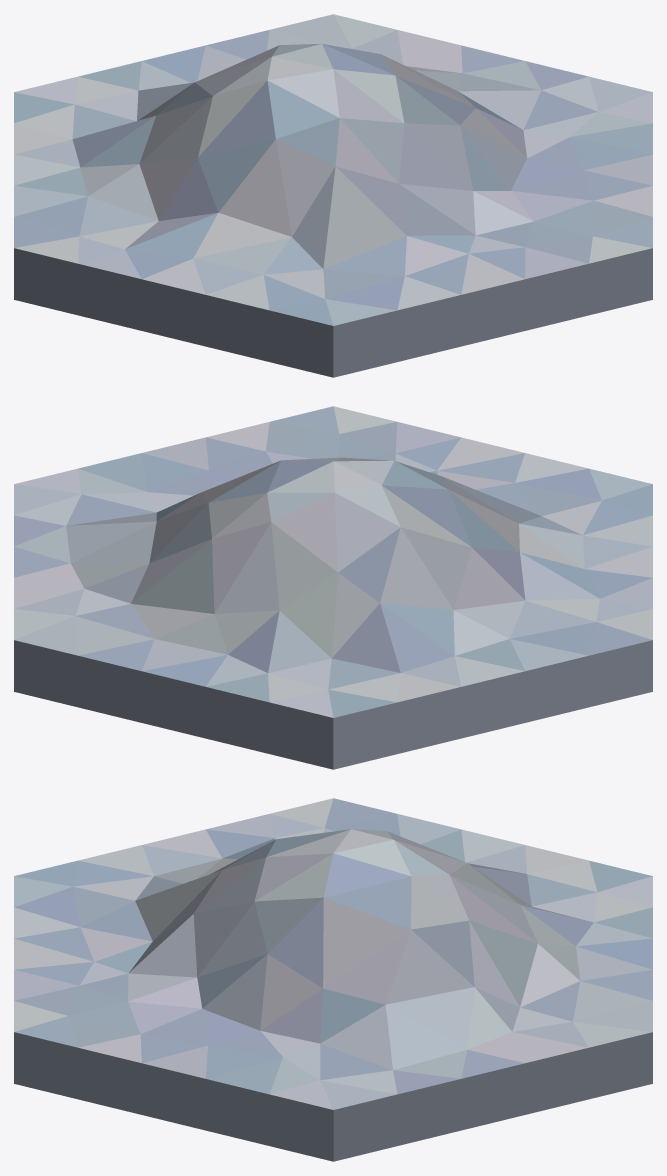
File: Snow Hill.glb
3 views of the same model, one above another, from view 1: azimuth 30°, elevation 25°; view 2: azimuth 150°, elevation 25°; view 3: azimuth 270°, elevation 25° (orthographic).
Parts seen in each view (by area): view 1: Snow Hill; view 2: Snow Hill; view 3: Snow Hill.
Part boxes in pixels (left/top/right/bottom): Snow Hill: left=14, top=14, right=652, bottom=377; Snow Hill: left=14, top=406, right=652, bottom=769; Snow Hill: left=14, top=798, right=652, bottom=1161.
Bounding box in the file's own units: 1.94 × 0.4425 × 1.68.
